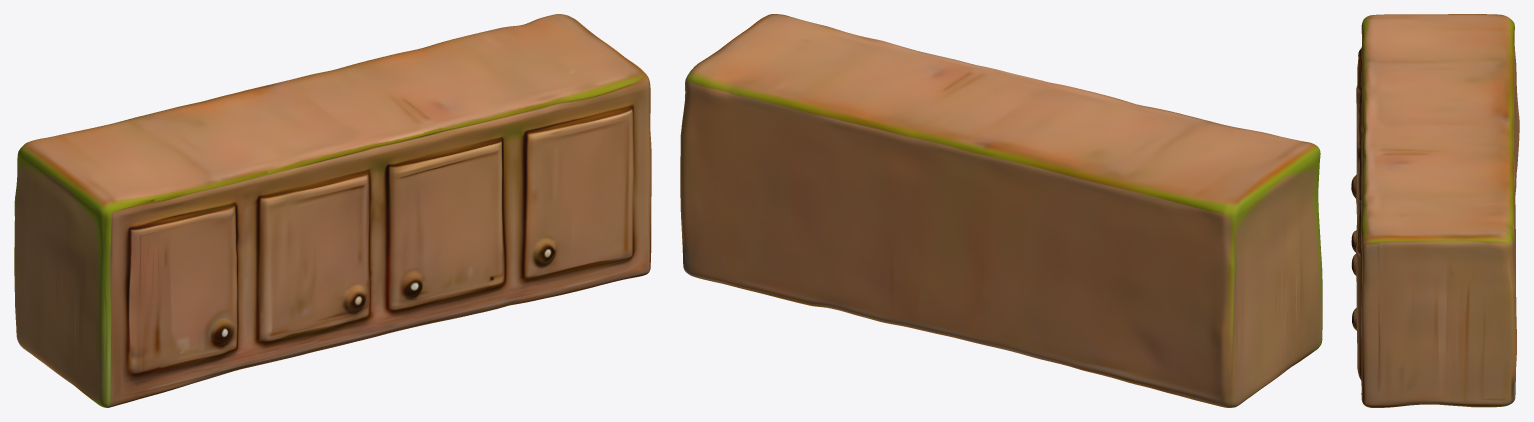
The model's file is cabinet.glb.
3 renders of one model, left to right at view 1: azimuth 30°, elevation 25°; view 2: azimuth 150°, elevation 25°; view 3: azimuth 270°, elevation 25°, orthographic. The views are drawn at different scales.
Visible parts, largest first — view 1: textured; view 2: textured; view 3: textured.
Boxes of the visible parts, box(x1,y1,x2,y2) form: textured: box(14, 14, 651, 407); textured: box(680, 14, 1322, 407); textured: box(1351, 14, 1519, 407).
Bounding box in the file's own units: 1.99 × 0.7087 × 0.6225.
Materials: 1 (1 with a texture image).
